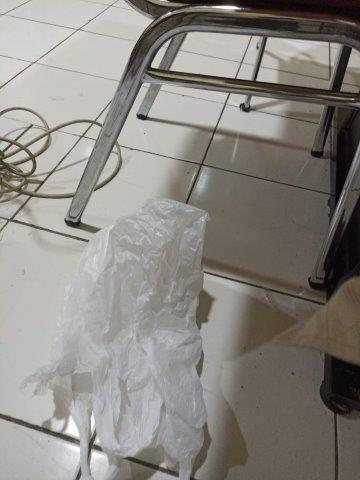plastik: (52, 194, 208, 480)
